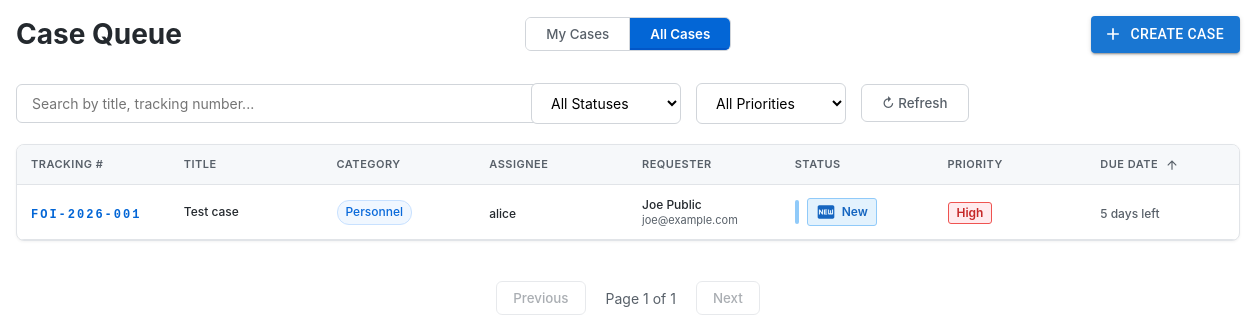
Test: CaseQueue — interactions › switches viewMode from "my" to "all" when admin clicks All Cases tab
The image size is (1258, 332).
Click the button "My Cases".
click(578, 34)  # box [526,18,630,50]
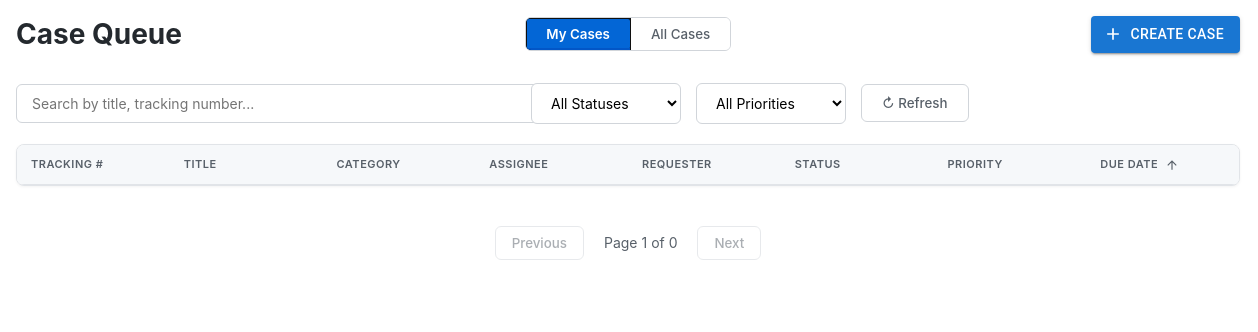
Click the button "All Cases".
click(681, 34)  # box [631,18,730,50]
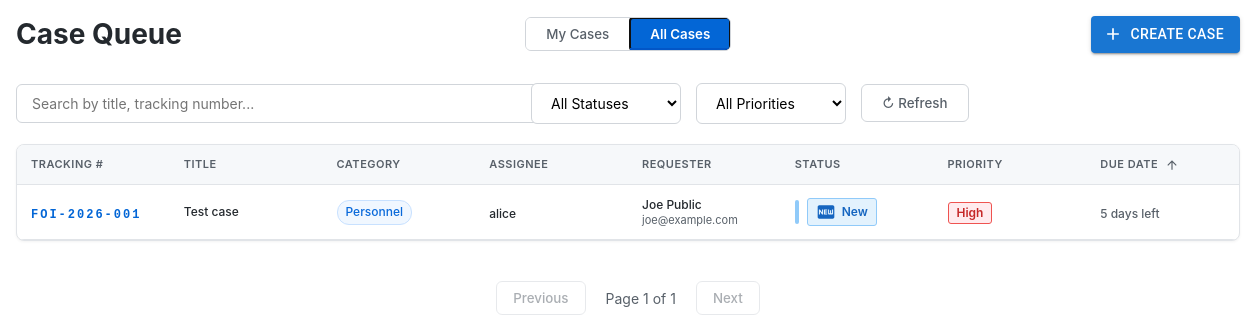
Expected: the text "FOI-2026-001" is shown, [31,208,141,222]
